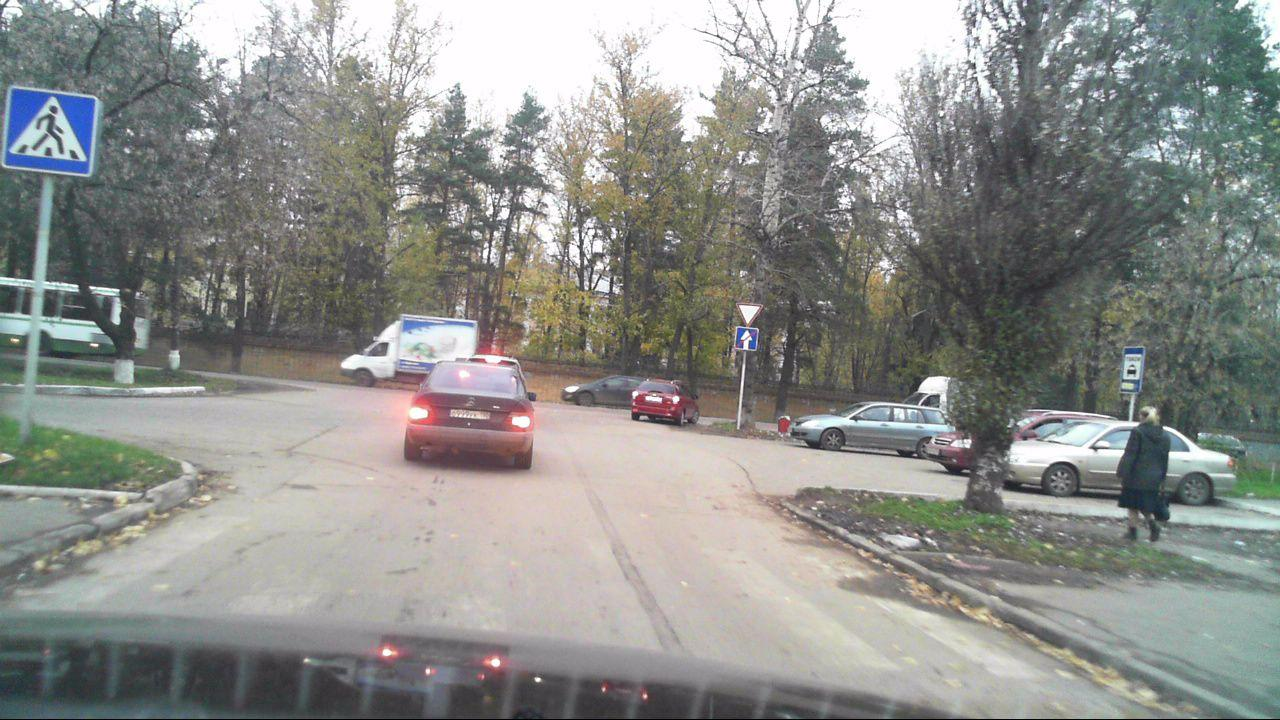2_4: (736, 303, 763, 326)
5_18: (1120, 345, 1144, 394)
5_19_2: (7, 87, 91, 176)
5_6: (733, 326, 760, 352)
